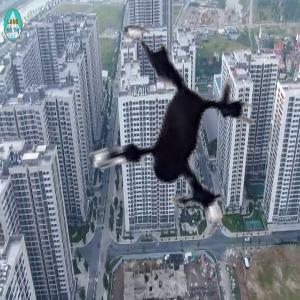drone: (33, 9, 285, 261)
